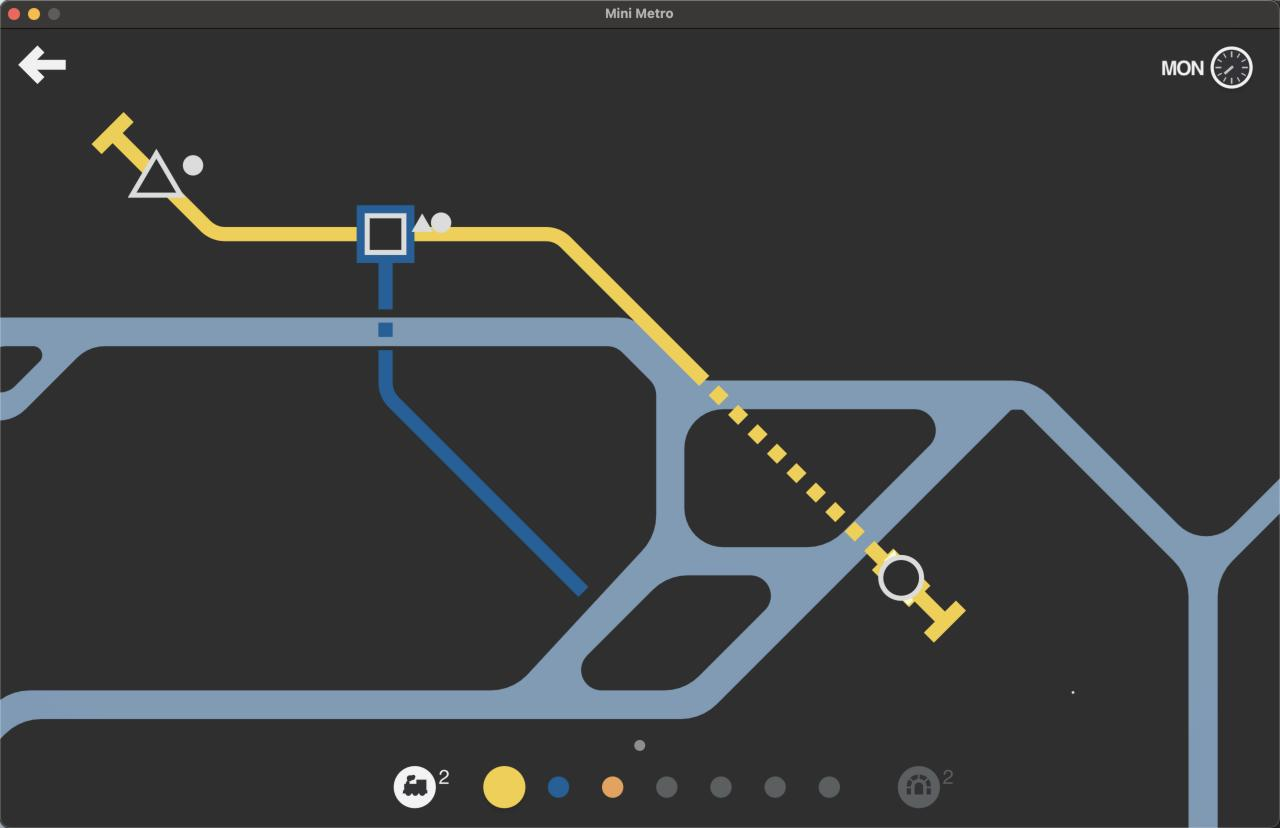CIRCLE: (879, 552, 926, 602)
SQUARE: (353, 204, 413, 261)
TRIANGLE: (127, 149, 186, 199)
